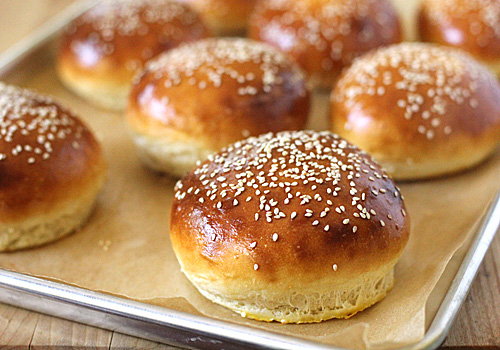hamburger_buns: (164, 120, 408, 318), (321, 35, 500, 165), (1, 77, 126, 244)
